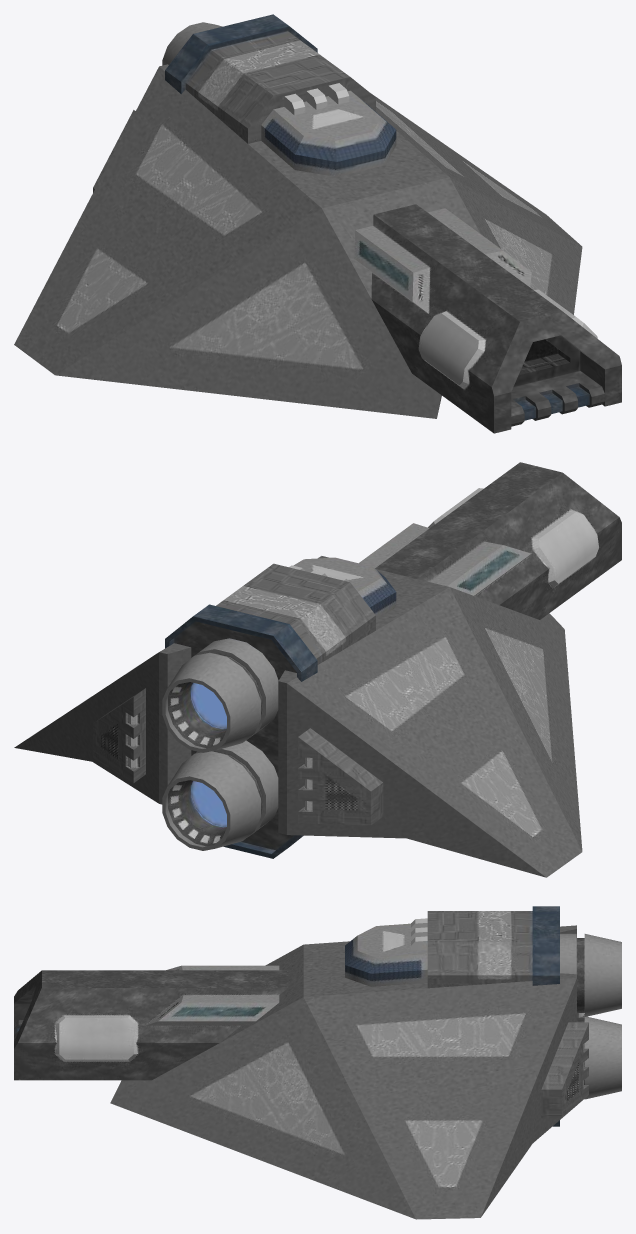
File: frigate-0-2.glb
The picture shows the model from 3 angles, top to bottom: view 1: azimuth 30°, elevation 25°; view 2: azimuth 150°, elevation 25°; view 3: azimuth 270°, elevation 25°; orthographic projection. The views are drawn at different scales.
Parts seen in each view (by area): view 1: frigate-0-2_0; view 2: frigate-0-2_0; view 3: frigate-0-2_0.
Boxes of the visible parts, box(x1,y1,x2,y2) form: frigate-0-2_0: box(14, 14, 621, 433); frigate-0-2_0: box(14, 462, 621, 877); frigate-0-2_0: box(14, 906, 621, 1219).
Bounding box in the file's own units: 0.8501 × 0.342 × 1.
1 material, 1 textured.
